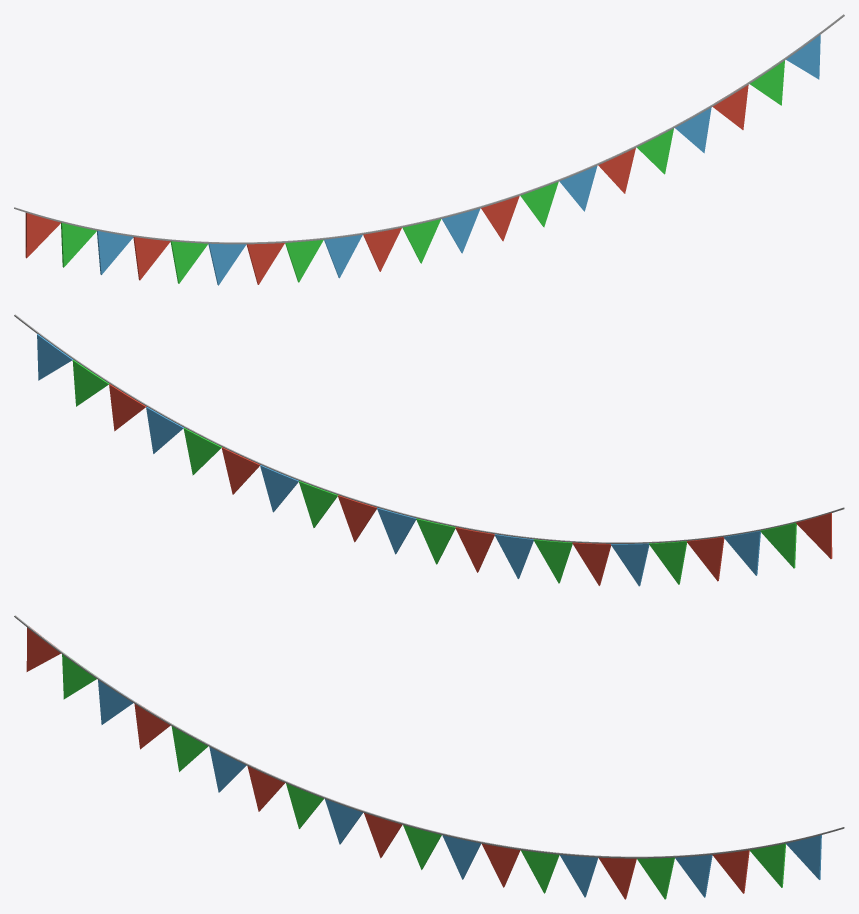
Rendered from festival_galrand.glb.
3 renders of one model, top to bottom at view 1: azimuth 30°, elevation 25°; view 2: azimuth 150°, elevation 25°; view 3: azimuth 330°, elevation 25°, orthographic.
Visible parts, largest first — view 1: Cube; view 2: Cube; view 3: Cube.
Boxes of the visible parts, x1,y1,x2,y2 form: Cube: [14, 14, 844, 285]; Cube: [14, 314, 844, 586]; Cube: [14, 615, 844, 899].
Size of the model in its own units: 6.63 by 1.19 by 0.0214.
